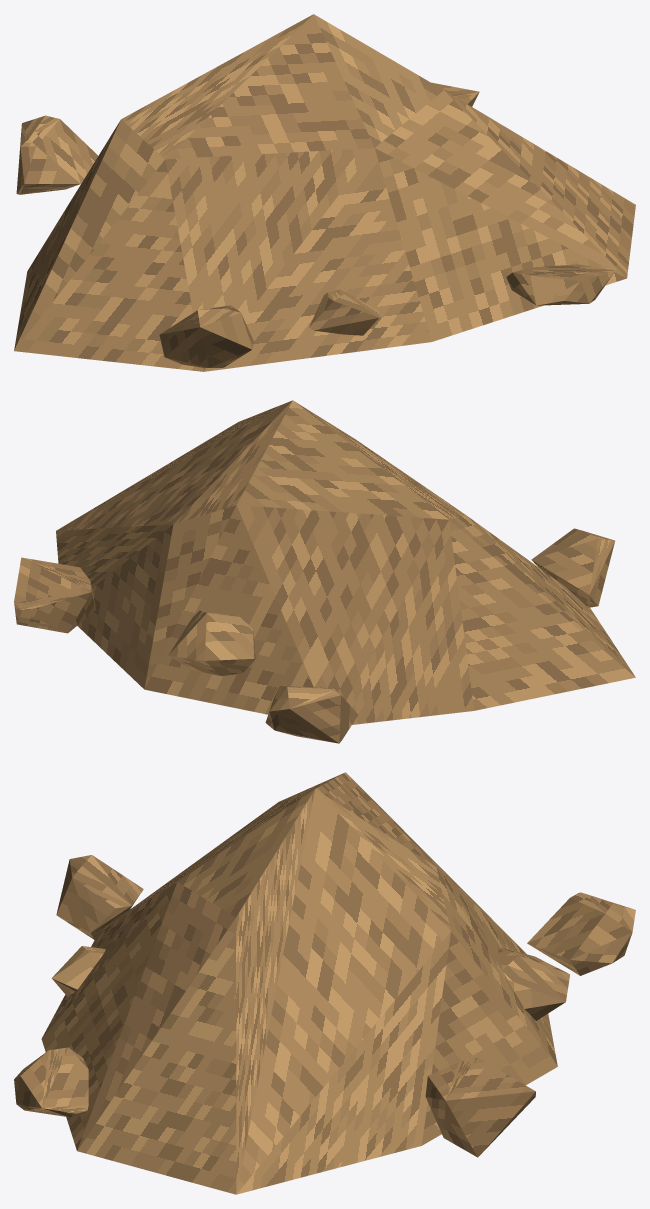
The model's file is f_woodchips.glb.
3 renders of one model, top to bottom at view 1: azimuth 30°, elevation 25°; view 2: azimuth 150°, elevation 25°; view 3: azimuth 270°, elevation 25°, orthographic. The views are drawn at different scales.
Parts seen in each view (by area): view 1: block_mound, block_debris-7, block_debris-1, block_debris-3, block_debris-6; view 2: block_mound, block_debris-5, block_debris-2, block_debris-7, block_debris-1; view 3: block_mound, block_debris-5, block_debris-7, block_debris-1, block_debris-3, block_debris-2, block_debris-6.
Part boxes in pixels (<box>): block_mound: <box>14,14,635,371</box>; block_debris-7: <box>16,115,97,194</box>; block_debris-1: <box>159,305,253,367</box>; block_debris-3: <box>506,264,615,305</box>; block_debris-6: <box>309,289,379,335</box>; block_mound: <box>56,400,635,724</box>; block_debris-5: <box>14,557,95,633</box>; block_debris-2: <box>168,610,256,676</box>; block_debris-7: <box>265,685,358,743</box>; block_debris-1: <box>531,528,614,607</box>; block_mound: <box>41,772,557,1194</box>; block_debris-5: <box>425,1057,535,1157</box>; block_debris-7: <box>527,892,635,975</box>; block_debris-1: <box>56,855,143,939</box>; block_debris-3: <box>14,1047,88,1117</box>; block_debris-2: <box>498,947,570,1020</box>; block_debris-6: <box>51,946,105,996</box>.
Bounding box in the file's own units: 0.9376 × 0.34 × 0.7538.
1 material, 1 textured.
